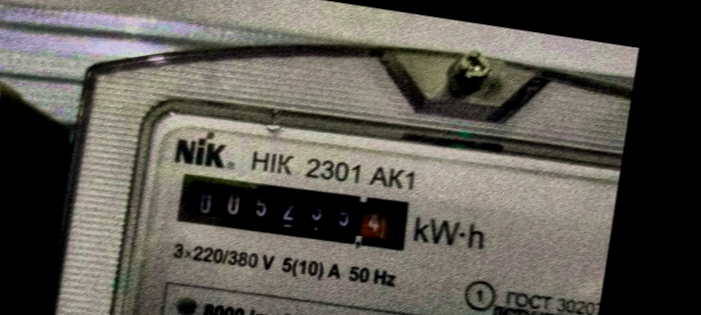0: (196, 187, 214, 214), (224, 189, 242, 215)
2: (278, 193, 298, 221)
3: (306, 194, 326, 221)
4: (362, 203, 385, 234)
5: (333, 197, 353, 228), (252, 190, 269, 217)
screen: (162, 154, 420, 263)
